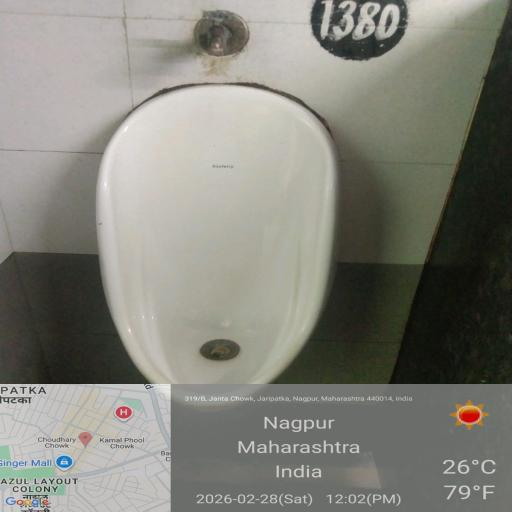clean_urinal: (67, 77, 361, 462)
